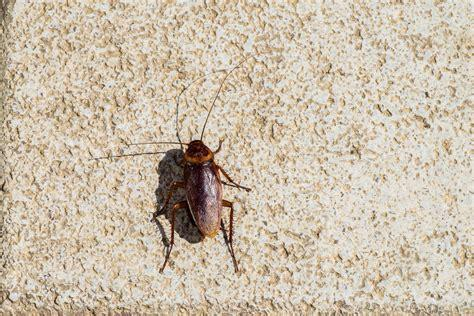cockroach: (170, 137, 234, 239)
